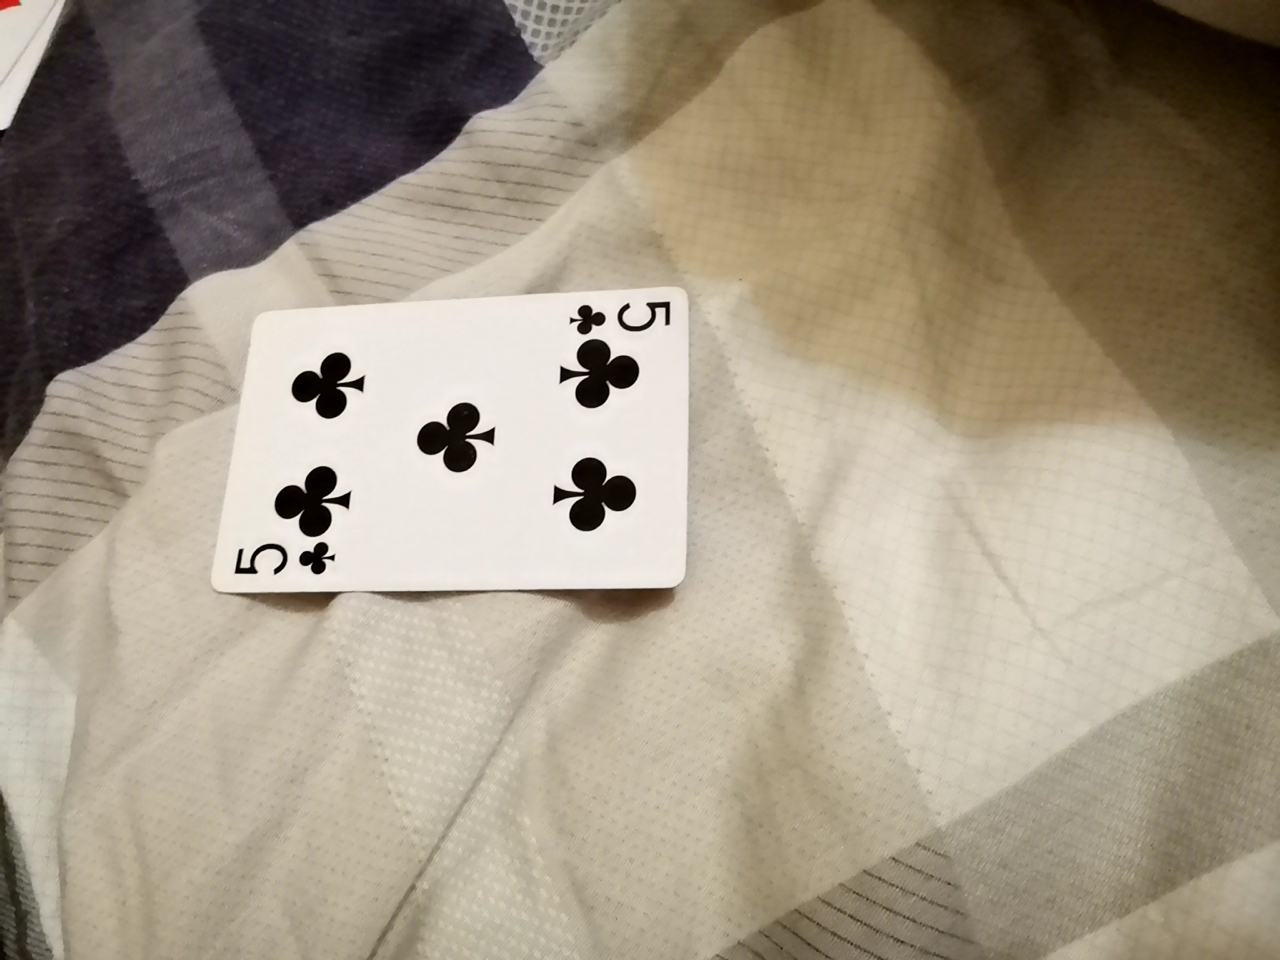mh 5: (236, 281, 692, 608)
